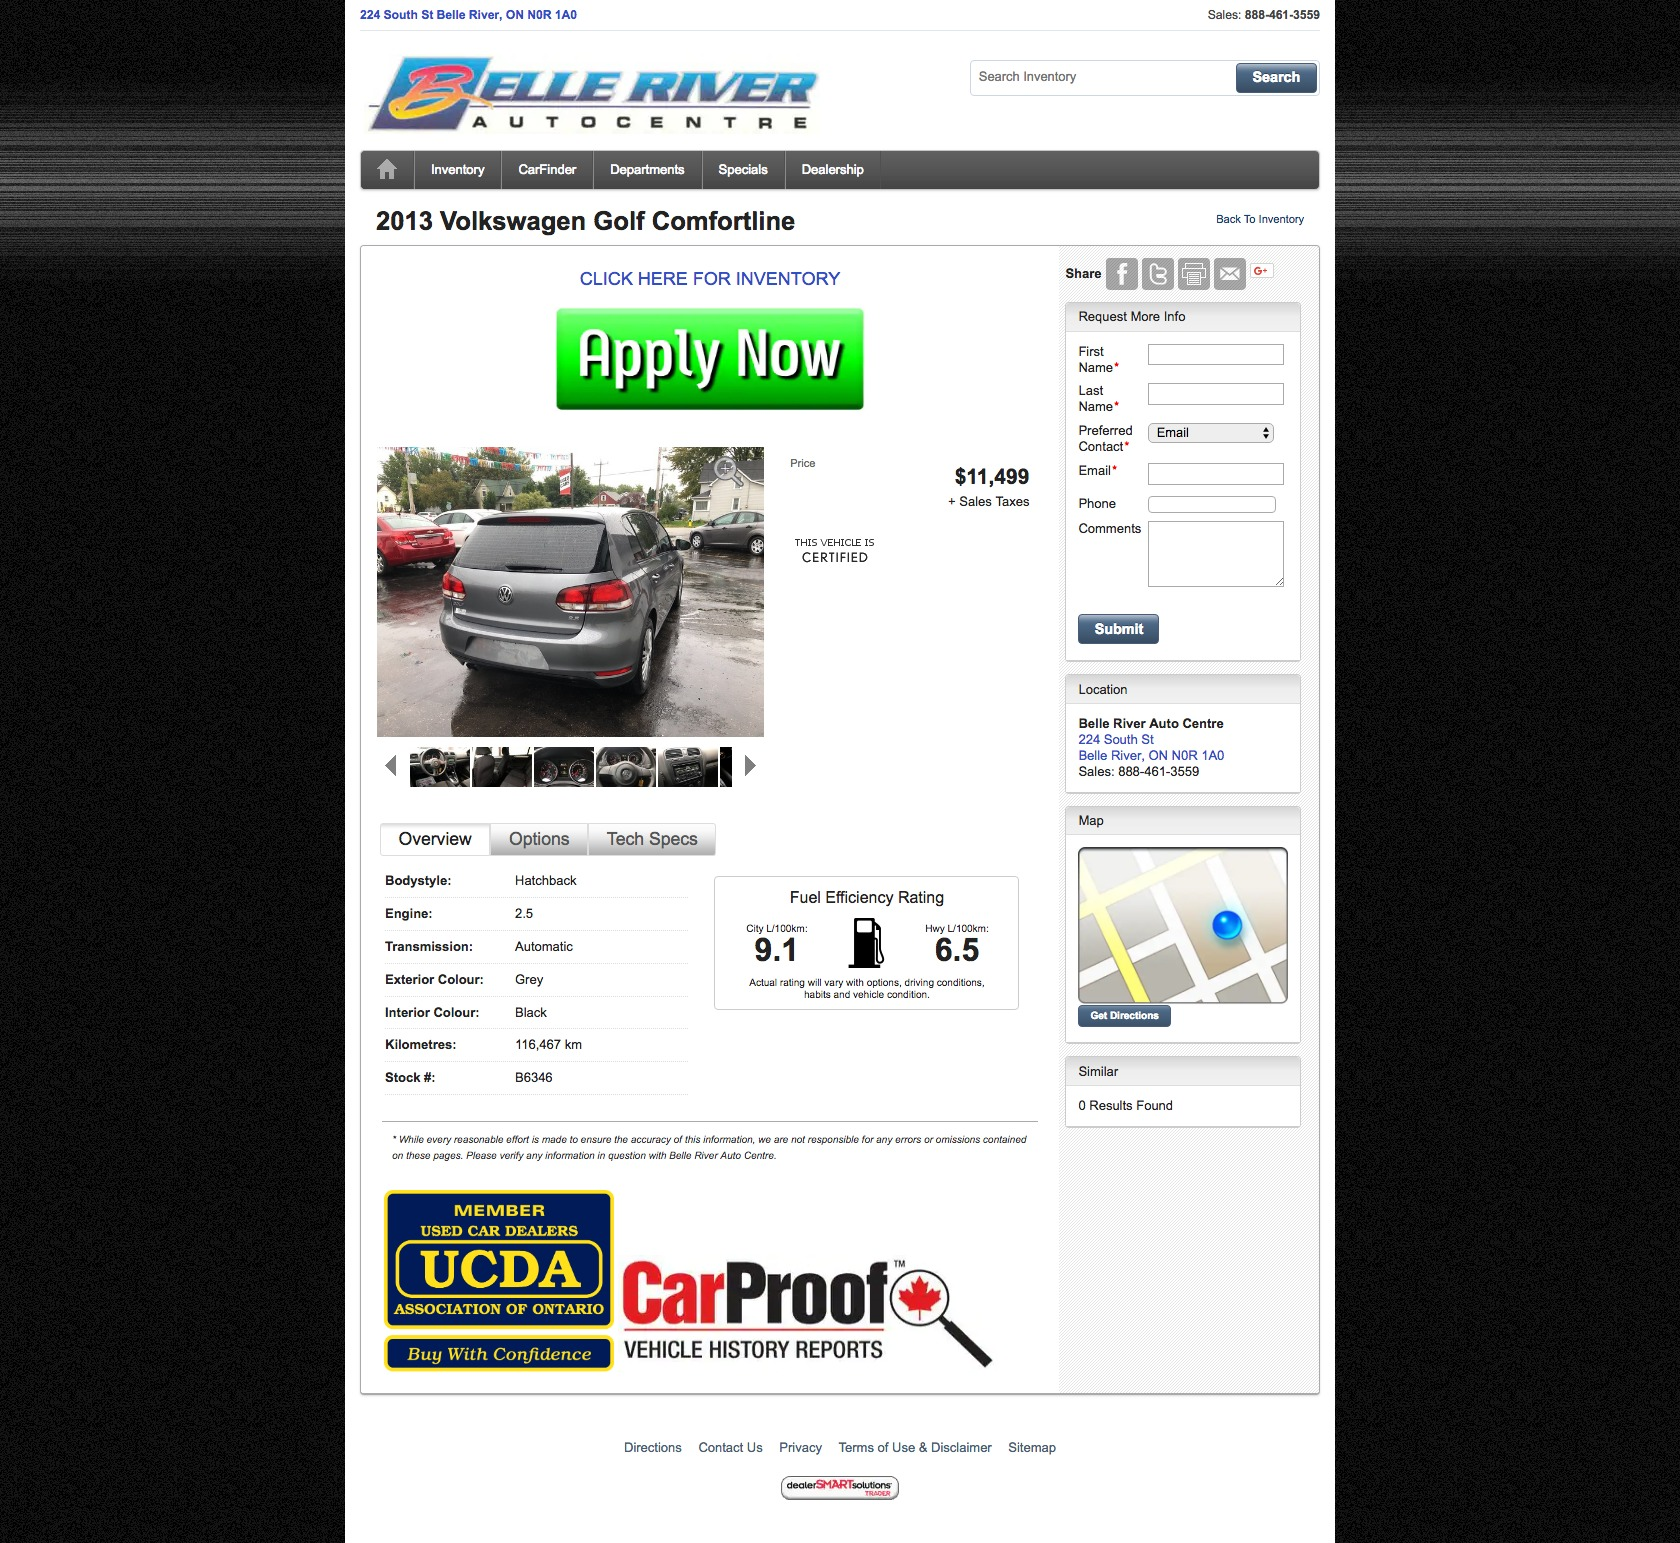car: (745, 755, 757, 777)
